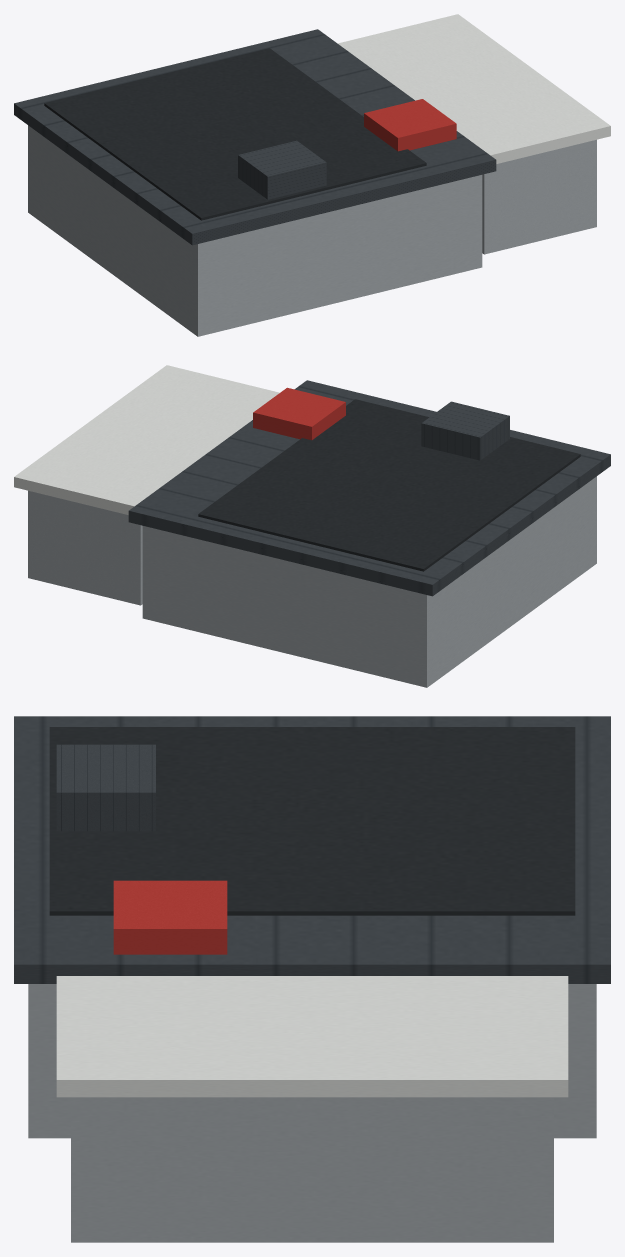
The model's file is Checkout_Lane_4x3.obj.
The picture shows the model from 3 angles, top to bottom: view 1: azimuth 30°, elevation 25°; view 2: azimuth 150°, elevation 25°; view 3: azimuth 270°, elevation 25°; orthographic projection. The views are drawn at different scales.
Visible parts, largest first — view 1: Checkout_Lane_4x3; view 2: Checkout_Lane_4x3; view 3: Checkout_Lane_4x3.
Boxes of the visible parts, box(x1,y1,x2,y2) form: Checkout_Lane_4x3: box(14, 14, 610, 336); Checkout_Lane_4x3: box(14, 365, 610, 687); Checkout_Lane_4x3: box(14, 716, 610, 1242).
Bounding box in the file's own units: 3.52 × 1.05 × 2.52.
Materials: 6 (6 with a texture image).
